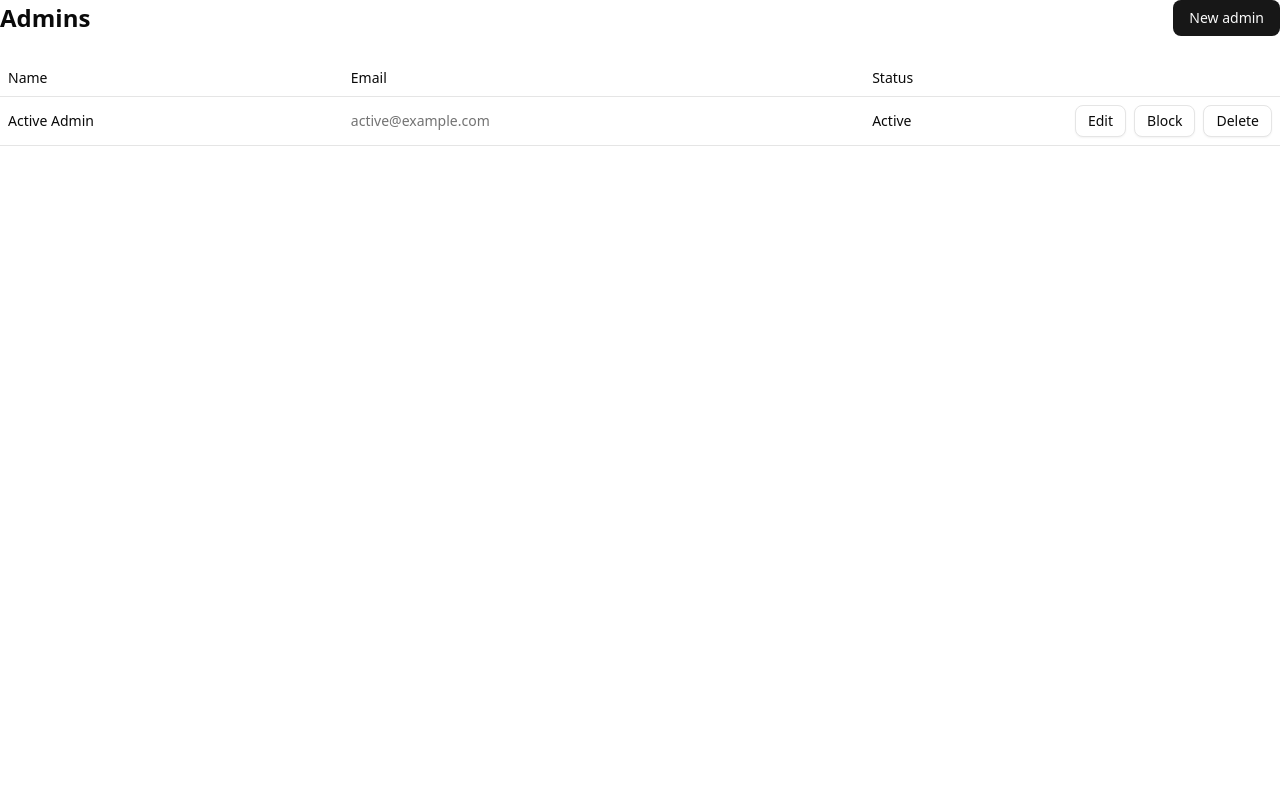
Test: edit › seeds the checkboxes from the admin's current grants
The width and height of the screenshot is (1280, 800).
Step 1. Click the button with aria-label "edit active admin" → {"x": 1101, "y": 121}, box [1075, 105, 1126, 137]
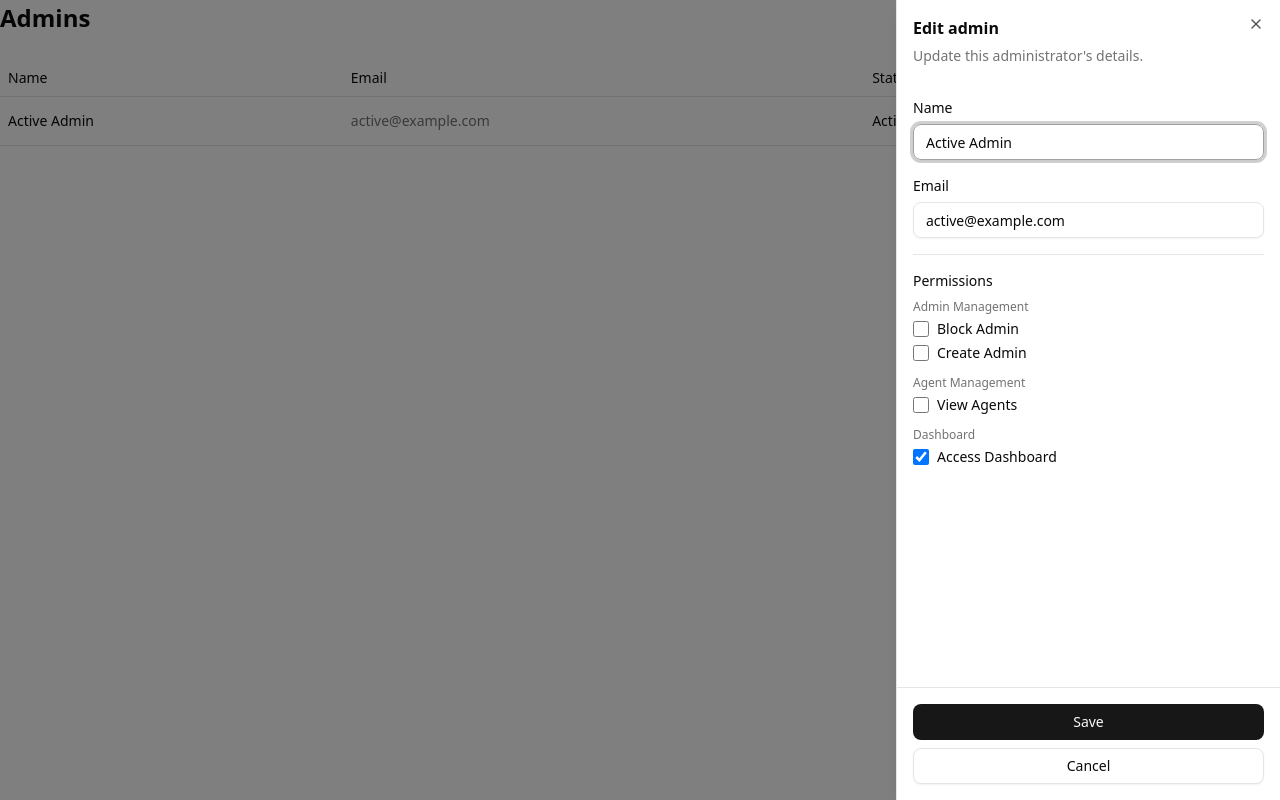
Expected: the checkbox labelled "Access Dashboard" is checked, [913, 449, 929, 465]
Expected: the checkbox labelled "Create Admin" is not checked, [913, 345, 929, 361]
